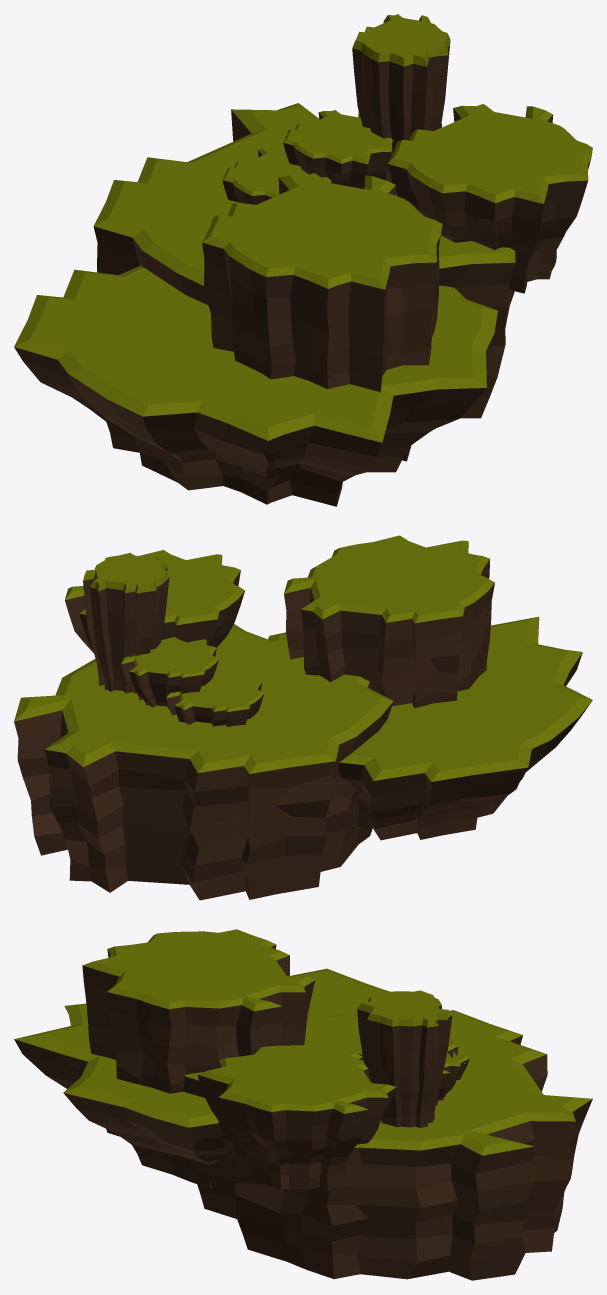
File: cliff.glb
3 renders of one model, top to bottom at view 1: azimuth 30°, elevation 25°; view 2: azimuth 150°, elevation 25°; view 3: azimuth 270°, elevation 25°, orthographic. The views are drawn at different scales.
Visible parts, largest first — view 1: Cube.001; view 2: Cube.001; view 3: Cube.001.
Part boxes in pixels (left/top/right/bottom): Cube.001: left=14, top=14, right=592, bottom=506; Cube.001: left=14, top=535, right=592, bottom=900; Cube.001: left=14, top=929, right=592, bottom=1280.
Size of the model in its own units: 33.99 by 18.25 by 37.82.
Materials: 1 (1 with a texture image).
